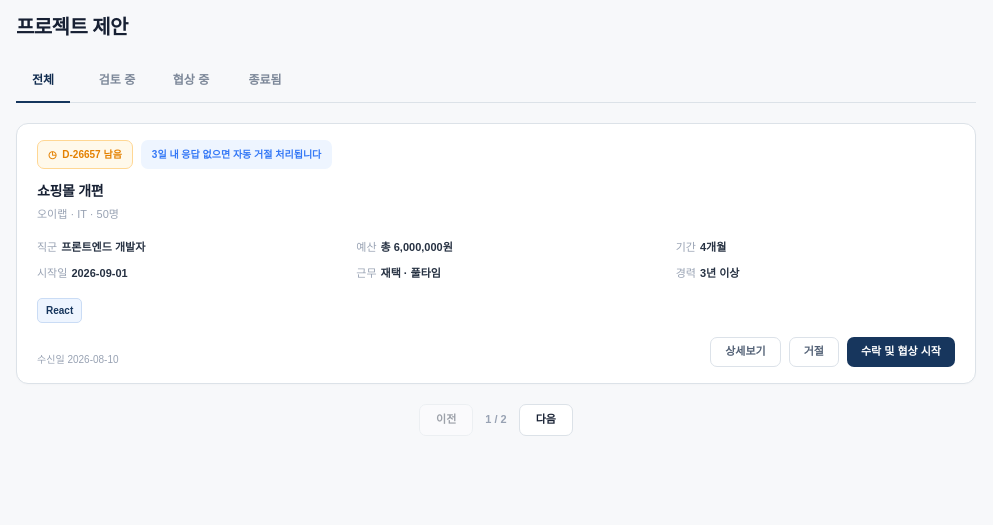
Scenario: FreelancerProjects › 기한 만료 오류가 발생하면 목록을 다시 조회한다
The image size is (993, 525).
Expected: the heading "쇼핑몰 개편" is shown, [37,181,103,202]
What coordinates should you click on to do the following:
click the button "수락 및 협상 시작"
I would click on:
 (901, 352)
Its box is [847,336,955,366].
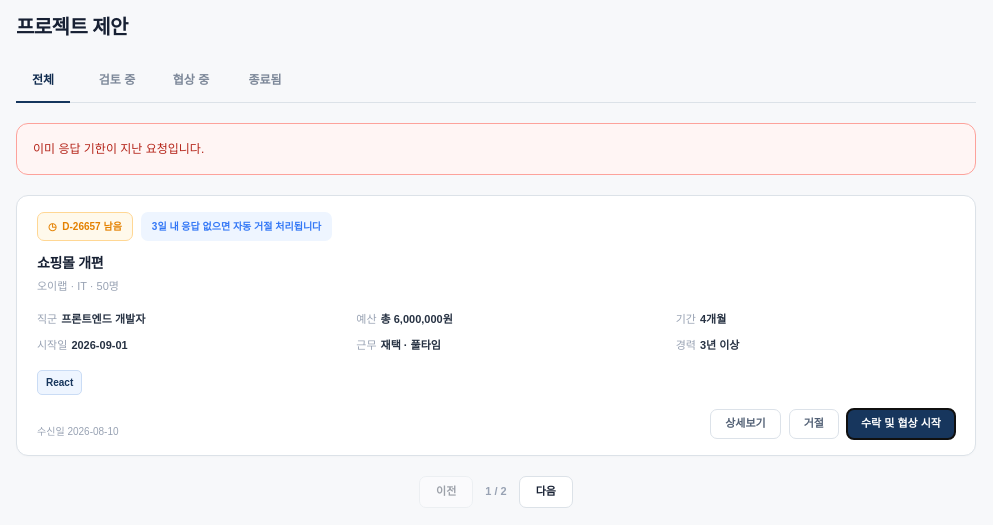
Expected: the message reads "이미 응답 기한이 지난 요청입니다.", [33,142,204,156]
